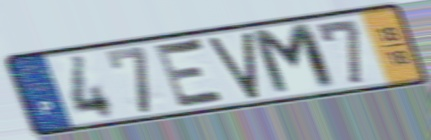4: (68, 52, 113, 121)
7: (103, 43, 154, 116), (312, 18, 366, 86)
E: (151, 36, 230, 111)
M: (247, 21, 342, 99)
V: (205, 29, 262, 102)
